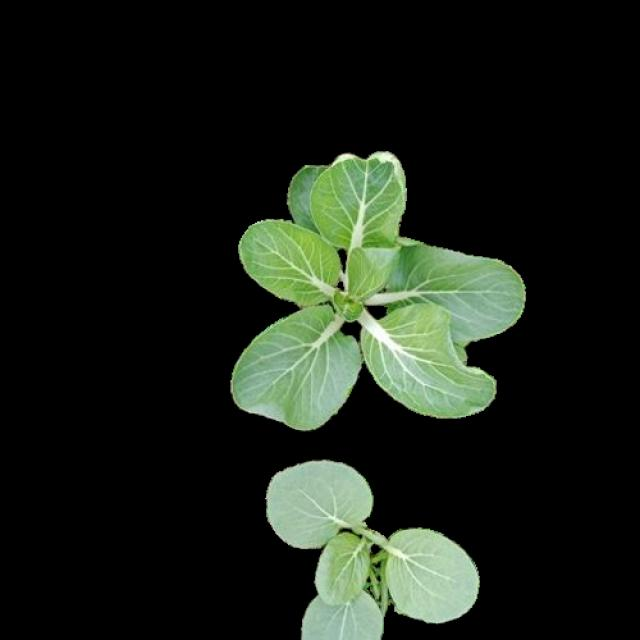healthy: (265, 460, 476, 638)
not-mature: (232, 150, 526, 431), (267, 462, 478, 640)
unhealthy: (314, 154, 404, 247)
